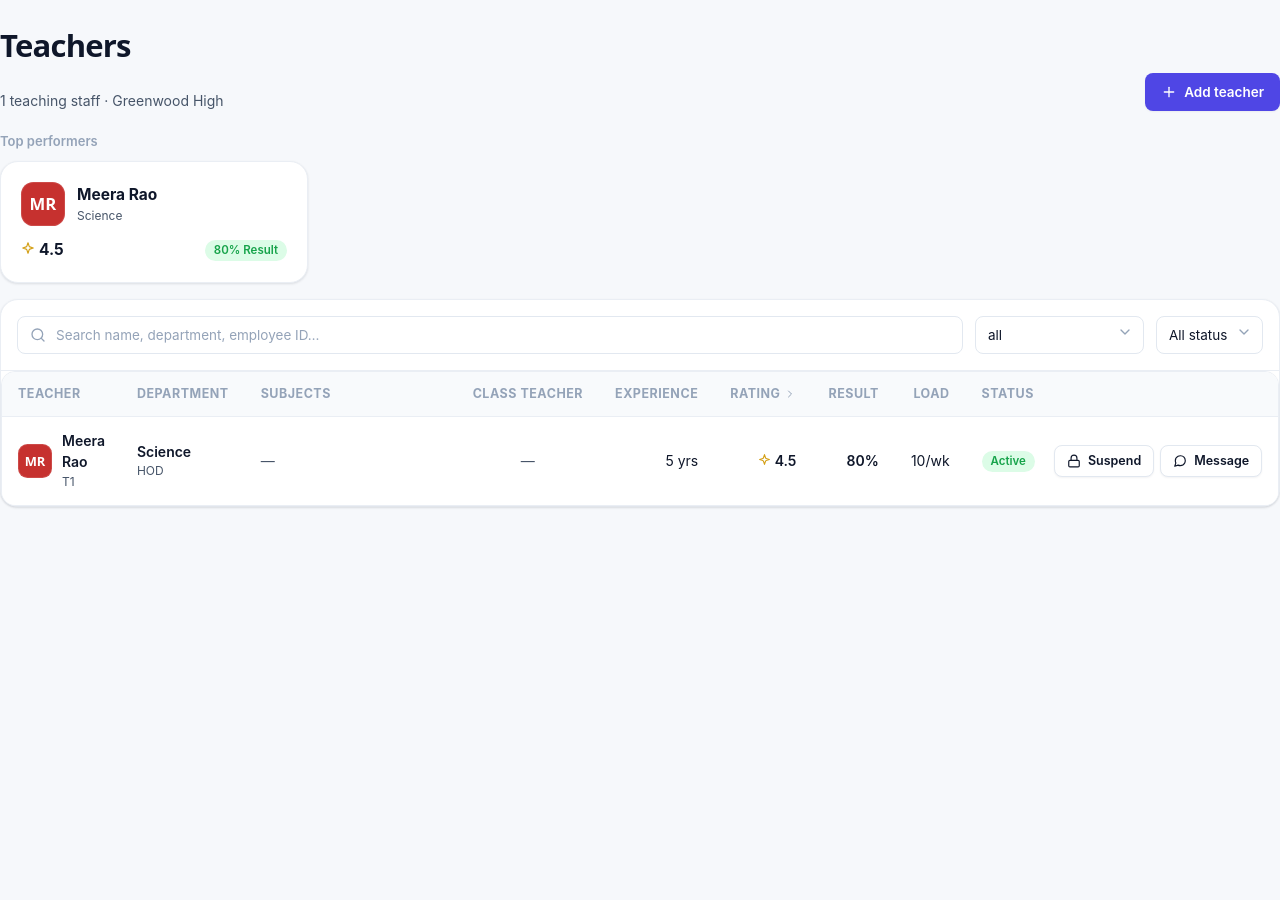
Test case: Teacher profile — App access card › shows Suspend for an active linked account (admin viewer)
Check: the 1st text "Meera Rao" is shown, box [77,183,157,207]
Click the text "Meera Rao" next to "HOD".
click(83, 452)  # box [62,430,105,473]
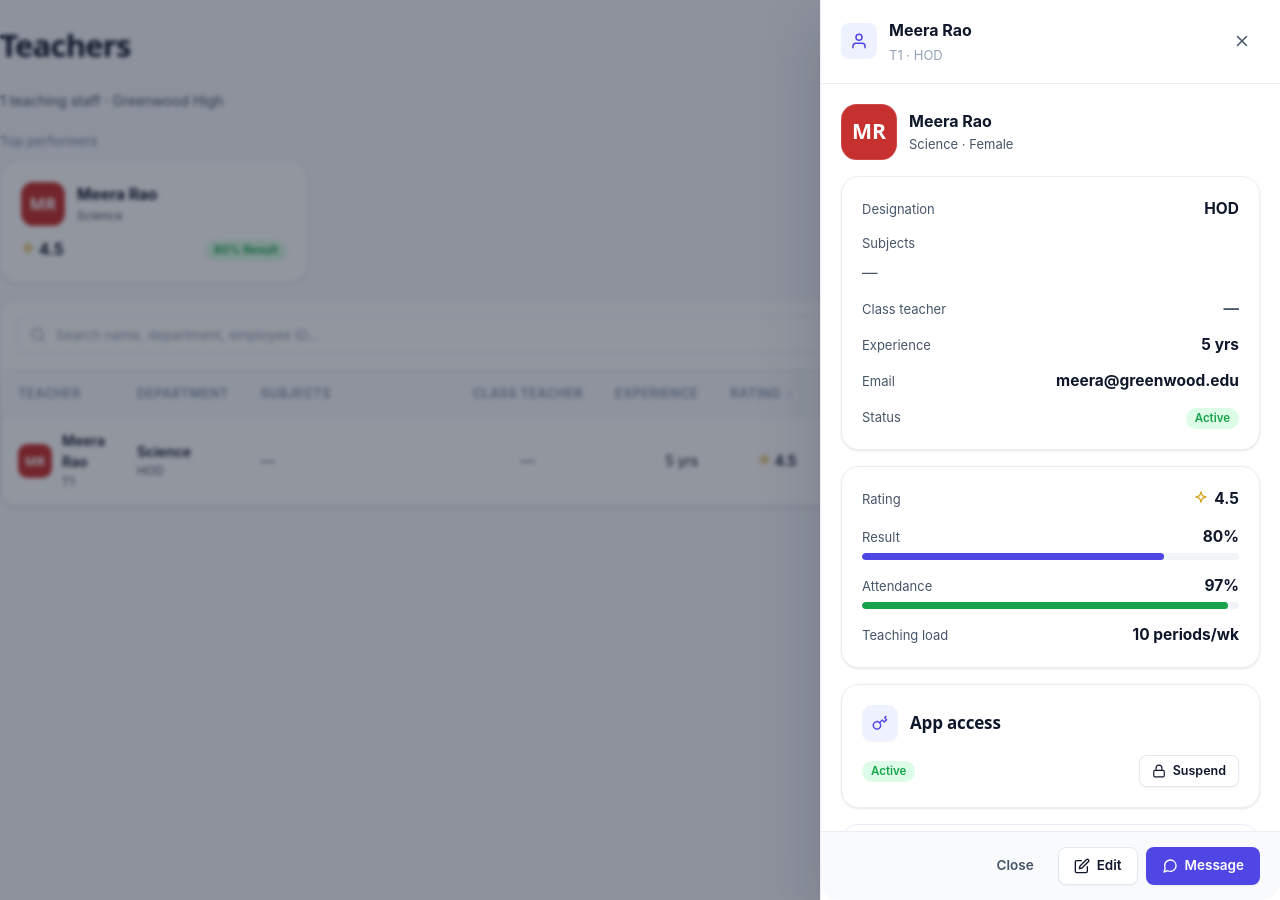
Check: the text "Active" below "App access" is shown, box [871,764,906,778]
Check: the button "Suspend" is shown, box [1139,756,1239,788]
